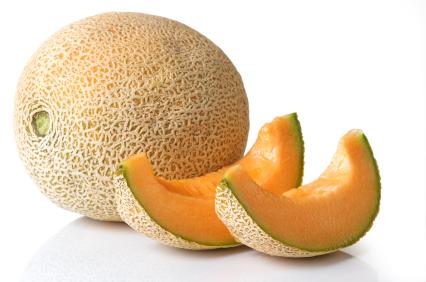Melon Ripe: (12, 12, 248, 222), (116, 110, 310, 248), (216, 126, 384, 262)
